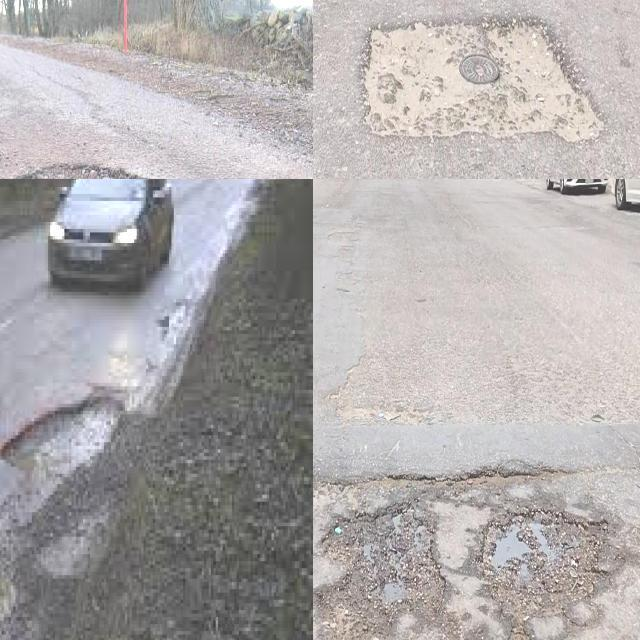Pothole: (359, 9, 610, 150), (0, 393, 125, 640), (318, 497, 445, 638), (478, 508, 598, 619)
